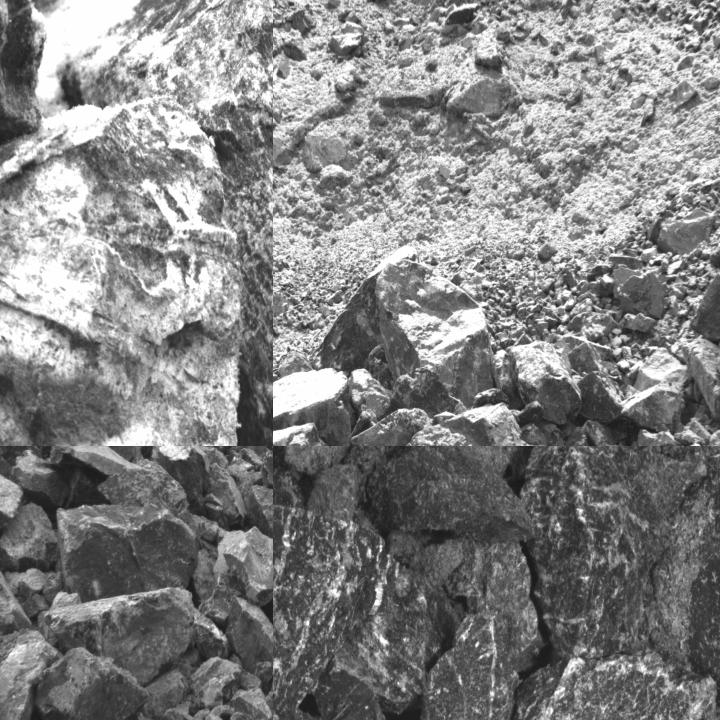stone: (71, 0, 272, 445), (0, 109, 238, 445), (519, 446, 652, 660), (273, 508, 383, 719), (333, 552, 462, 714), (374, 261, 496, 411), (368, 446, 538, 540), (452, 542, 542, 670), (421, 614, 516, 719), (310, 262, 390, 372), (273, 363, 351, 445), (507, 338, 580, 420), (414, 404, 545, 445), (312, 658, 383, 719), (0, 503, 60, 573), (393, 364, 456, 418), (10, 452, 70, 507), (158, 446, 206, 512), (618, 382, 683, 430), (352, 408, 435, 445), (689, 341, 719, 441), (656, 202, 710, 256), (688, 247, 719, 341), (573, 371, 624, 421), (207, 464, 248, 526), (347, 366, 394, 415), (620, 270, 666, 318), (273, 425, 368, 445), (568, 344, 611, 376), (0, 446, 42, 465), (261, 454, 272, 501), (104, 446, 139, 459)
